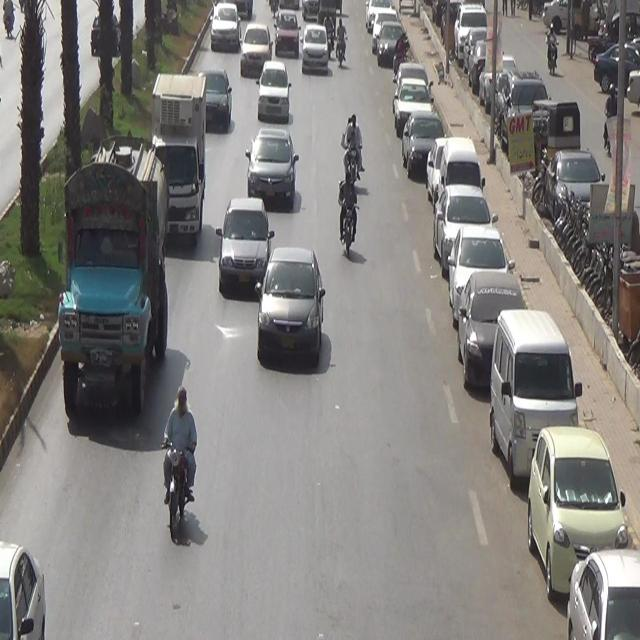car: (250, 248, 330, 380), (210, 186, 279, 298), (237, 127, 302, 229), (193, 47, 237, 140), (232, 14, 274, 81), (255, 59, 293, 128), (208, 0, 238, 56), (304, 22, 328, 82), (275, 9, 301, 64)
motorbike: (161, 382, 203, 541), (335, 174, 364, 260), (338, 111, 364, 191), (334, 17, 355, 73)
truck: (43, 162, 167, 450), (139, 71, 214, 257)
